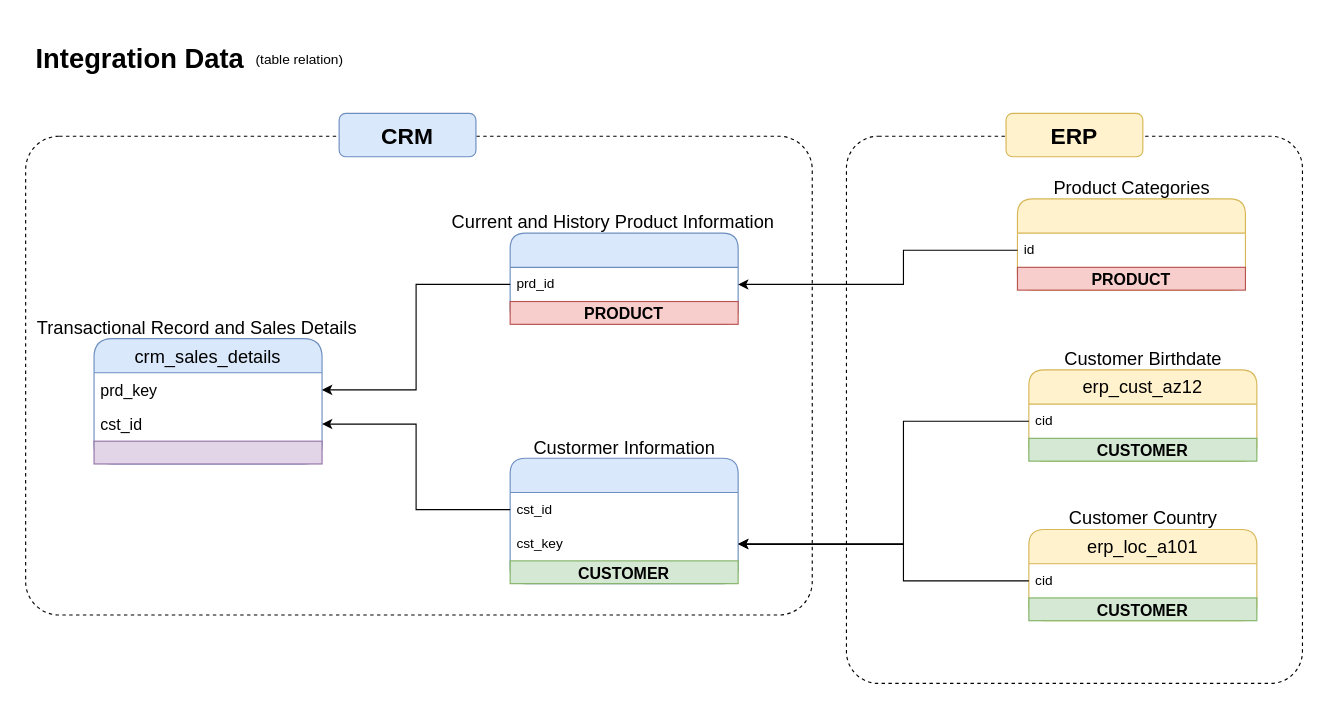
The diagram is 1322 pixels wide and 703 high, and some of its shapes have lost their labels. The box of each missing label's shape, as (x1, y1, x2, y2) in pixels:
crm_cust_info: (509, 457, 738, 584)
crm_prd_info: (509, 232, 738, 324)
erp_PX_CAT_G1V2: (1016, 198, 1245, 290)
SALES: (93, 440, 322, 464)
